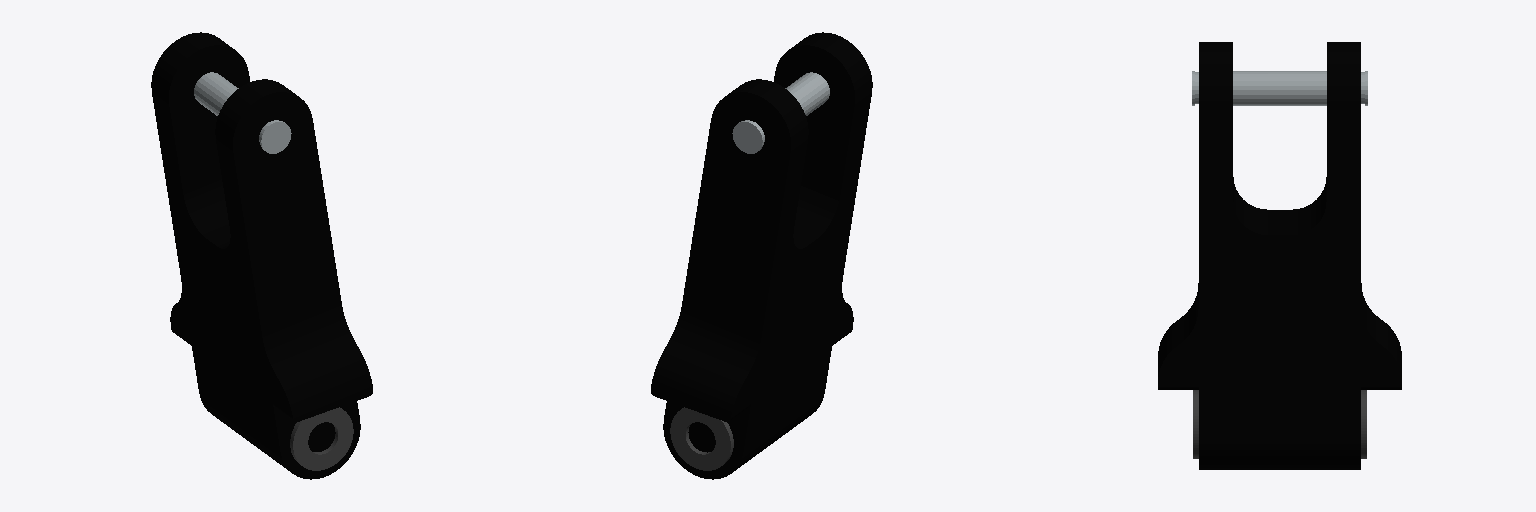
Rendered from robotiq_85_gripper_joint_1_R.obj.
3 renders of one model, left to right at view 1: azimuth 30°, elevation 25°; view 2: azimuth 150°, elevation 25°; view 3: azimuth 270°, elevation 25°, orthographic.
Parts seen in each view (by area): view 1: Actor0_ActorShape0_0-Mesh.006; view 2: Actor0_ActorShape0_0-Mesh.006; view 3: Actor0_ActorShape0_0-Mesh.006.
Part boxes in pixels (x1,y1,x2,y2): Actor0_ActorShape0_0-Mesh.006: (151,32,372,479); Actor0_ActorShape0_0-Mesh.006: (651,32,872,479); Actor0_ActorShape0_0-Mesh.006: (1158,42,1401,469).
Size of the model in its own units: 0.0202 by 0.0597 by 0.0333.